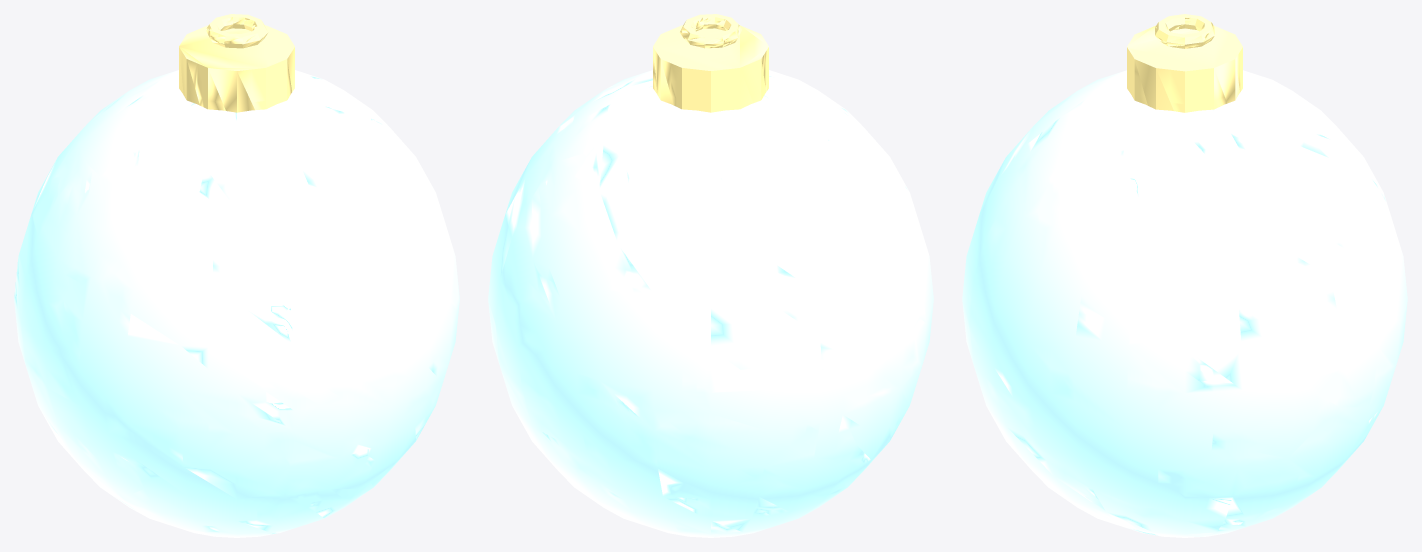
The model's file is xmas_bauble.glb.
3 views of the same model, side by side, from view 1: azimuth 30°, elevation 25°; view 2: azimuth 150°, elevation 25°; view 3: azimuth 270°, elevation 25° (orthographic).
Parts seen in each view (by area): view 1: Bauble; view 2: Bauble; view 3: Bauble.
Boxes of the visible parts, box(x1,y1,x2,y2) form: Bauble: box(14, 14, 459, 537); Bauble: box(488, 14, 933, 537); Bauble: box(962, 14, 1407, 537).
Bounding box in the file's own units: 1.84 × 2.25 × 1.84.
